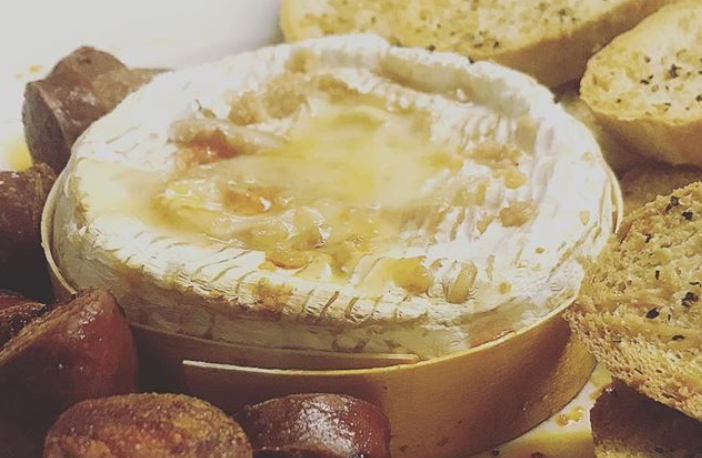camembert: (41, 30, 618, 371)
